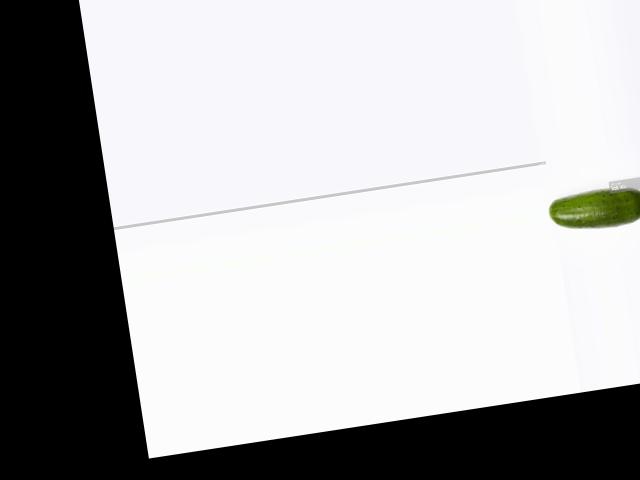cucumber: (546, 181, 640, 236)
